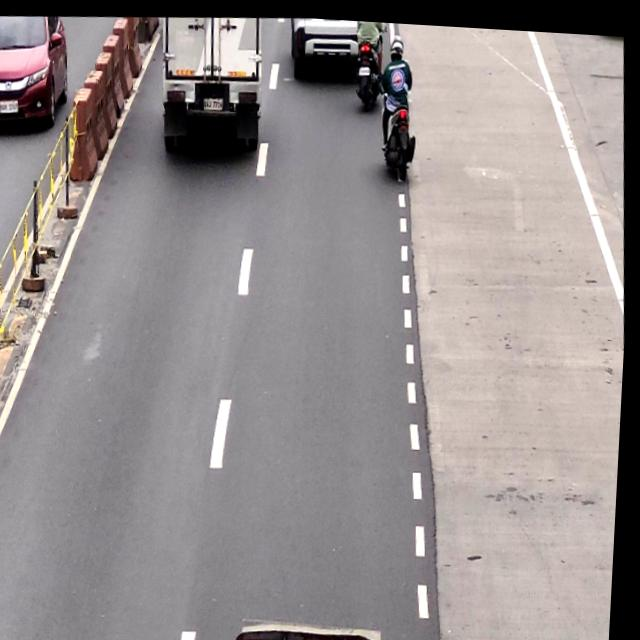License-Plate: (203, 94, 225, 113)
Motorcycle: (378, 35, 426, 180), (352, 17, 387, 108)
Truck: (153, 10, 265, 153)
